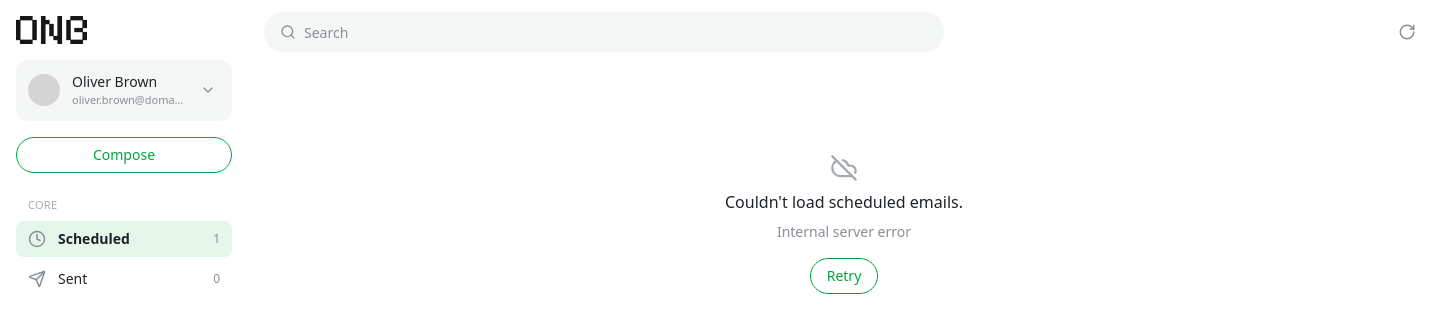
it: Scheduled tab › shows an error with a working Retry
expect the text "Couldn't load scheduled emails." is shown: met, box [725,190,963,214]
Click the button "Retry": (844, 276) [810,258,878,294]
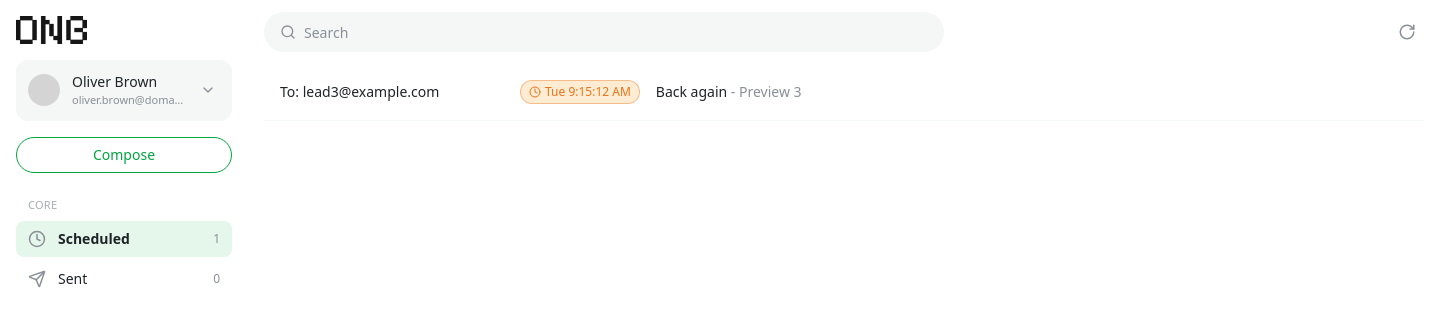
expect the text "Back again" is shown: met, box [656,82,727,101]
